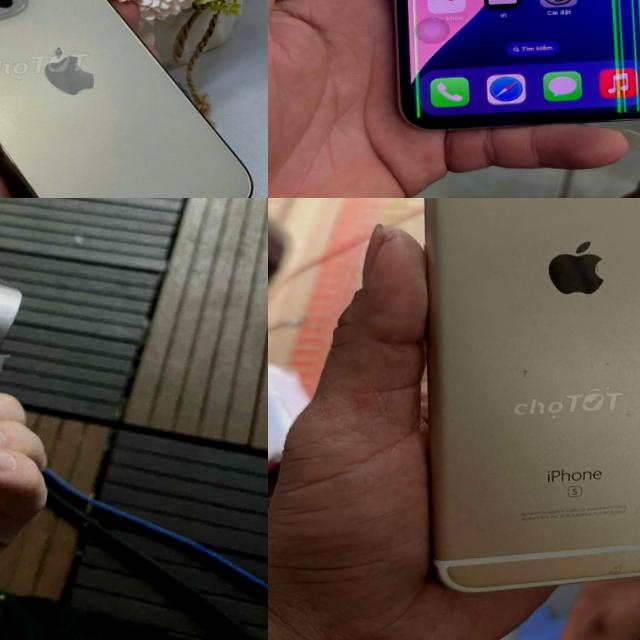scratch: (586, 529, 640, 580)
screen_defect: (394, 20, 446, 54), (600, 11, 640, 50), (400, 79, 450, 110), (603, 47, 640, 87), (396, 53, 440, 82), (610, 85, 640, 119), (395, 0, 434, 25), (401, 105, 438, 124)
